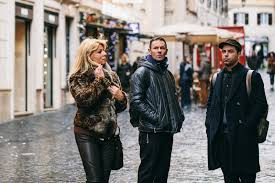no-mask: (82, 39, 111, 70), (146, 34, 172, 63), (218, 40, 240, 68)
